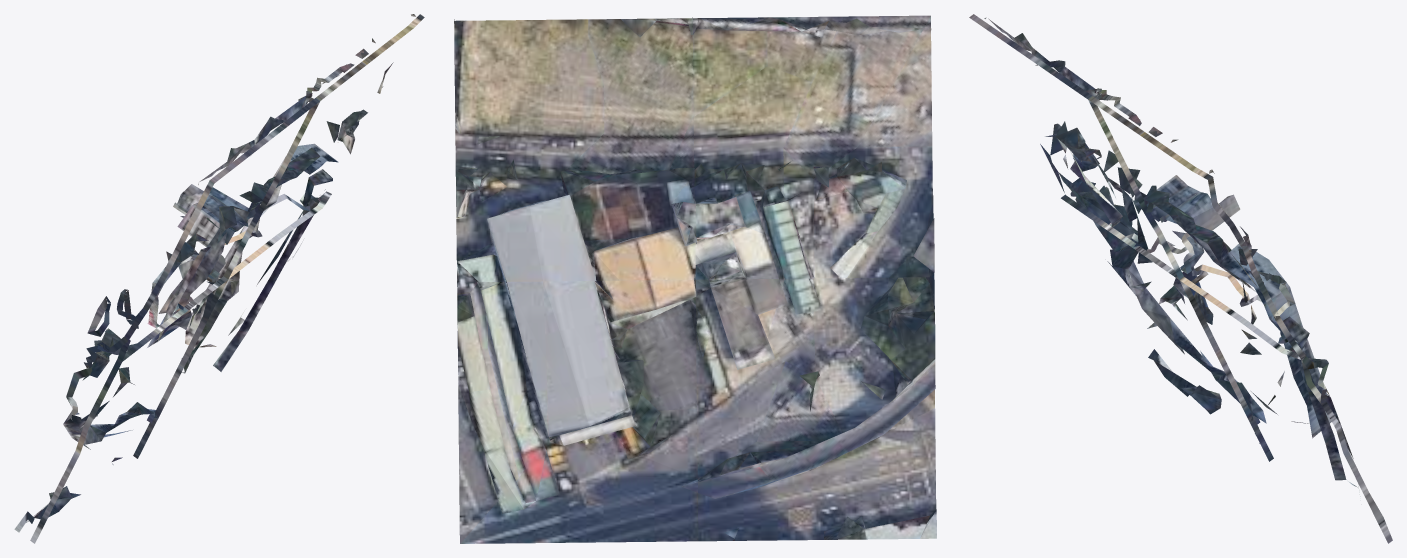
3 views of the same model, side by side, from view 1: azimuth 30°, elevation 25°; view 2: azimuth 150°, elevation 25°; view 3: azimuth 270°, elevation 25° (orthographic). The views are drawn at different scales.
Bounding box in the file's own units: 155 × 141 × 129.
2 materials, 2 textured.
